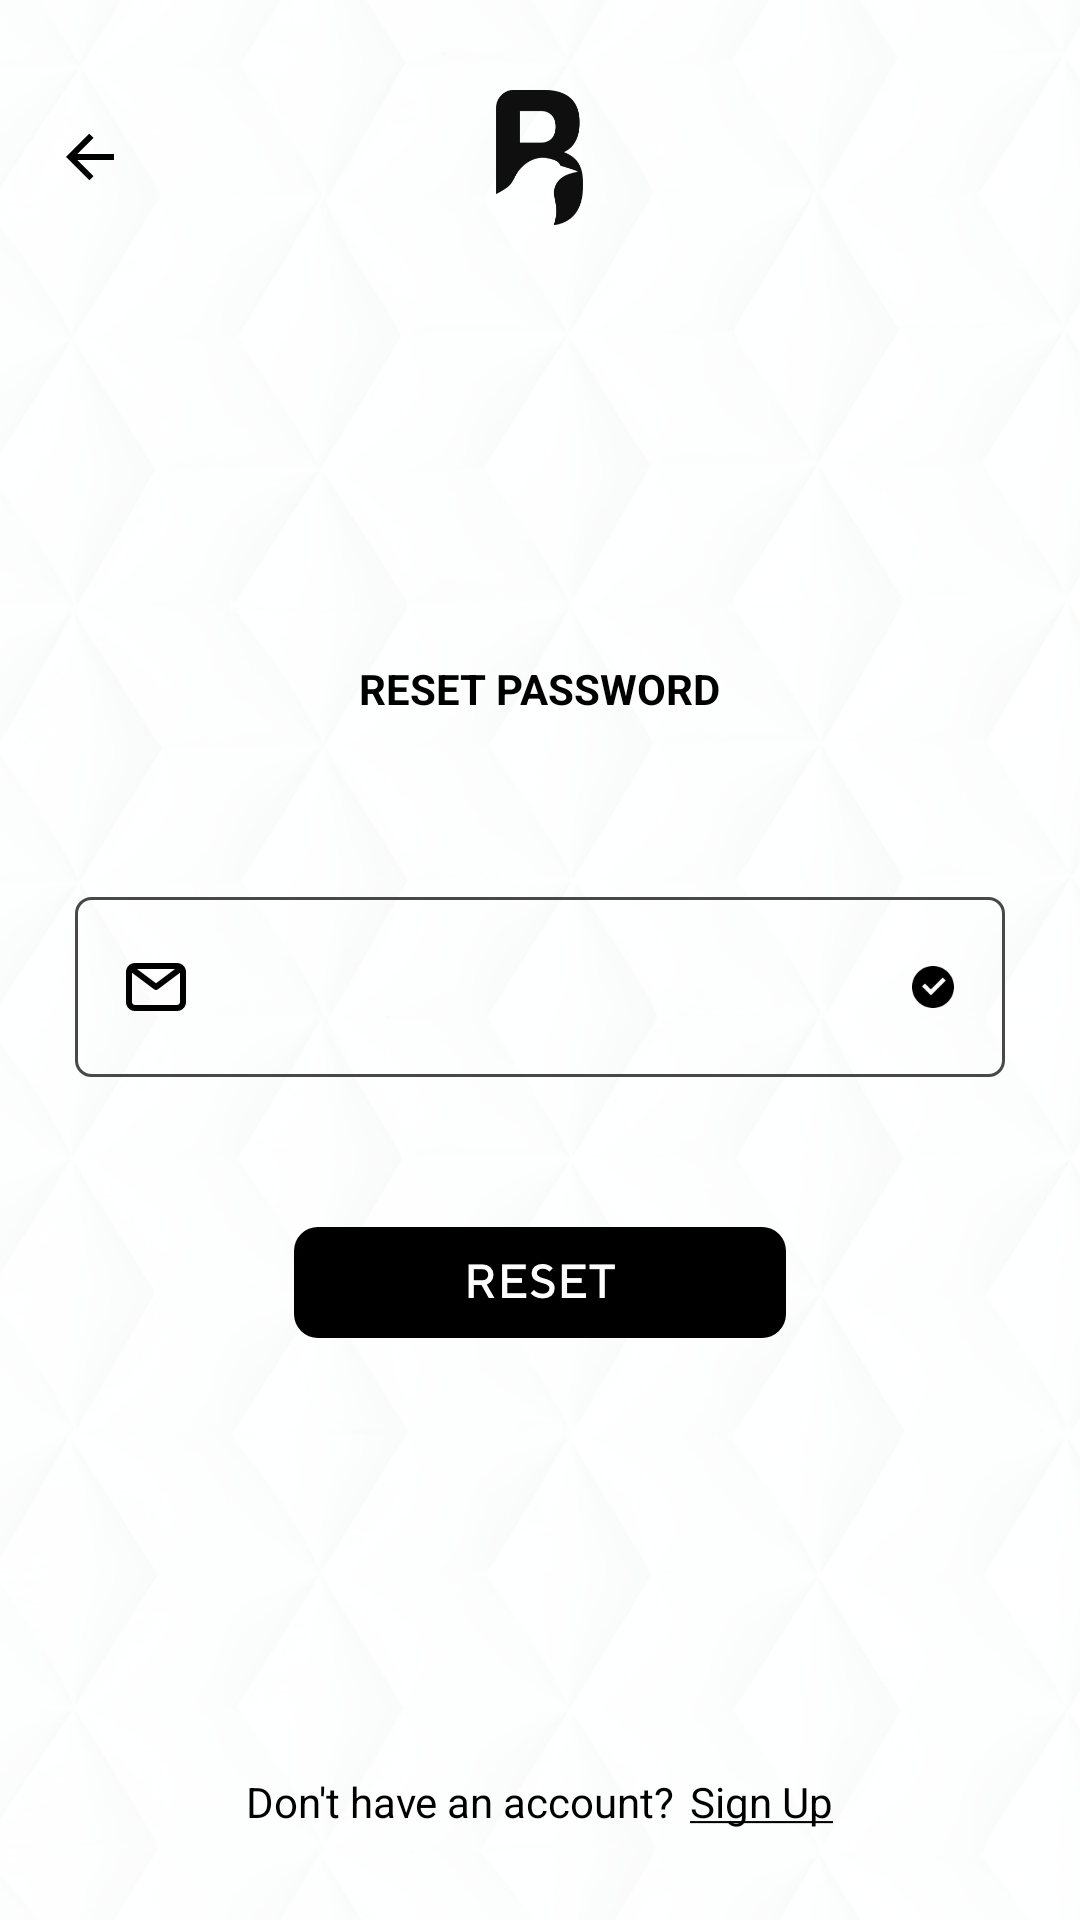

Named icons in this screenshot (1080px×1920px) and their bounding boxes, box=[x1, y1, x2, y2]:
back: box=[66, 133, 114, 180]
mail: box=[126, 963, 186, 1011]
